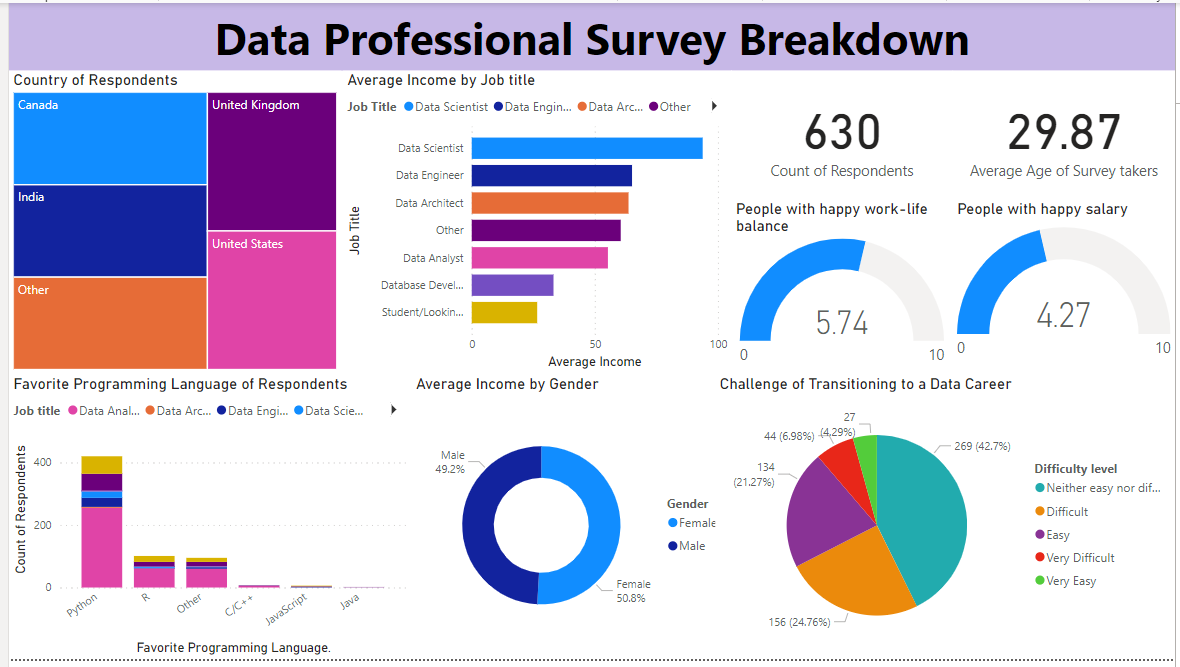

This screenshot's page, from the dashboard's own definition file:
{"tool":"powerbi","page":{"name":"Page 1","canvas":[1280,720],"ordinal":0},"visuals":[{"type":"textbox","box":[0,0,1280.3,74.1],"z":0},{"type":"card","fields":{"Values":["Count(Data Professional Survey.Unique ID)"]},"box":[792.9,74.3,242.9,141.4],"z":1000},{"type":"card","fields":{"Values":["Avg(Data Professional Survey.Q10 - Current Age)"]},"box":[1036,74.1,244.3,141.3],"z":2000},{"type":"barChart","title":"Average Income by Job title","fields":{"Category":["Data Professional Survey.Q1 - Which Title Best Fits your Current Role?.1"],"Y":["Avg(Data Professional Survey.Average Income)"],"Series":["Data Professional Survey.Q1 - Which Title Best Fits your Current Role?.1"]},"box":[365.7,74.3,427.1,332.9],"z":3000},{"type":"columnChart","title":"Favorite Programming Language of Respondents","fields":{"Category":["Data Professional Survey.Q5 - Favorite Programming Language.1"],"Y":["CountNonNull(Data Professional Survey.Unique ID)"],"Series":["Data Professional Survey.Q1 - Which Title Best Fits your Current Role?.1"]},"box":[0,407.1,441.4,312.9],"z":4000},{"type":"treemap","title":"Country of Respondents","fields":{"Group":["Data Professional Survey.Q11 - Which Country do you live in?.1"],"Values":["Count(Data Professional Survey.Q11 - Which Country do you live in?.1)"]},"box":[0,74.1,365,333.4],"z":5000},{"type":"gauge","title":"People with happy work-life balance","fields":{"Y":["Avg(Data Professional Survey.Q6 - How Happy are you in your Current Position with the following? (Work/Life Balance))"],"MinValue":["Min(Data Professional Survey.Q6 - How Happy are you in your Current Position with the following? (Work/Life Balance))"],"MaxValue":["Max(Data Professional Survey.Q6 - How Happy are you in your Current Position with the following? (Work/Life Balance))"]},"box":[793.1,215.4,242.9,192.1],"z":6000},{"type":"gauge","title":"People with happy salary","fields":{"Y":["Avg(Data Professional Survey.Q6 - How Happy are you in your Current Position with the following? (Salary))"],"MinValue":["Min(Data Professional Survey.Q6 - How Happy are you in your Current Position with the following? (Salary))"],"MaxValue":["Max(Data Professional Survey.Q6 - How Happy are you in your Current Position with the following? (Salary))"]},"box":[1035.7,215.7,244.3,191.4],"z":7000},{"type":"donutChart","fields":{"Category":["Data Professional Survey.Q9 - Male/Female?"],"Y":["Avg(Data Professional Survey.Average Income)"]},"box":[441.4,407.1,351.4,312.9],"z":8000},{"type":"pieChart","title":"Challenge of Transitioning to a Data Career","fields":{"Y":["CountNonNull(Data Professional Survey.Q7 - How difficult was it for you to break into Data?)"],"Category":["Data Professional Survey.Q7 - How difficult was it for you to break into Data?"]},"box":[775.7,407.1,504.3,312.9],"z":9000}]}

Visuals, with their boxes in screenshot pixels (x1, y1, x2, y2), scaled from the page's 1280x720 canvas onto the 1180x667 screenshot:
textbox: (x1=0, y1=0, x2=1179, y2=69)
card - Count(Data Professional Survey.Unique ID): (x1=731, y1=69, x2=955, y2=200)
card - Avg(Data Professional Survey.Q10 - Current Age): (x1=955, y1=69, x2=1179, y2=200)
"Average Income by Job title" barChart: (x1=337, y1=69, x2=731, y2=377)
"Favorite Programming Language of Respondents" columnChart: (x1=0, y1=377, x2=407, y2=666)
"Country of Respondents" treemap: (x1=0, y1=69, x2=336, y2=378)
"People with happy work-life balance" gauge: (x1=731, y1=200, x2=955, y2=378)
"People with happy salary" gauge: (x1=955, y1=200, x2=1179, y2=377)
donutChart - Data Professional Survey.Q9 - Male/Female? x Avg(Data Professional Survey.Average Income): (x1=407, y1=377, x2=731, y2=666)
"Challenge of Transitioning to a Data Career" pieChart: (x1=715, y1=377, x2=1179, y2=666)
